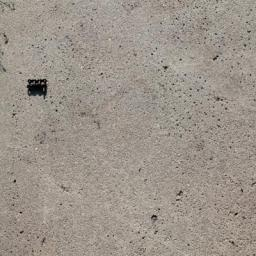FOD: (25, 77, 55, 100)
